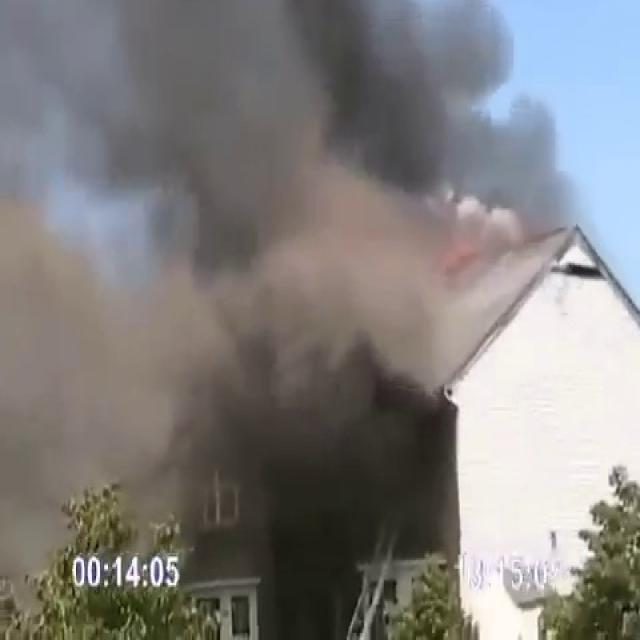Smoke: (0, 1, 536, 628)
